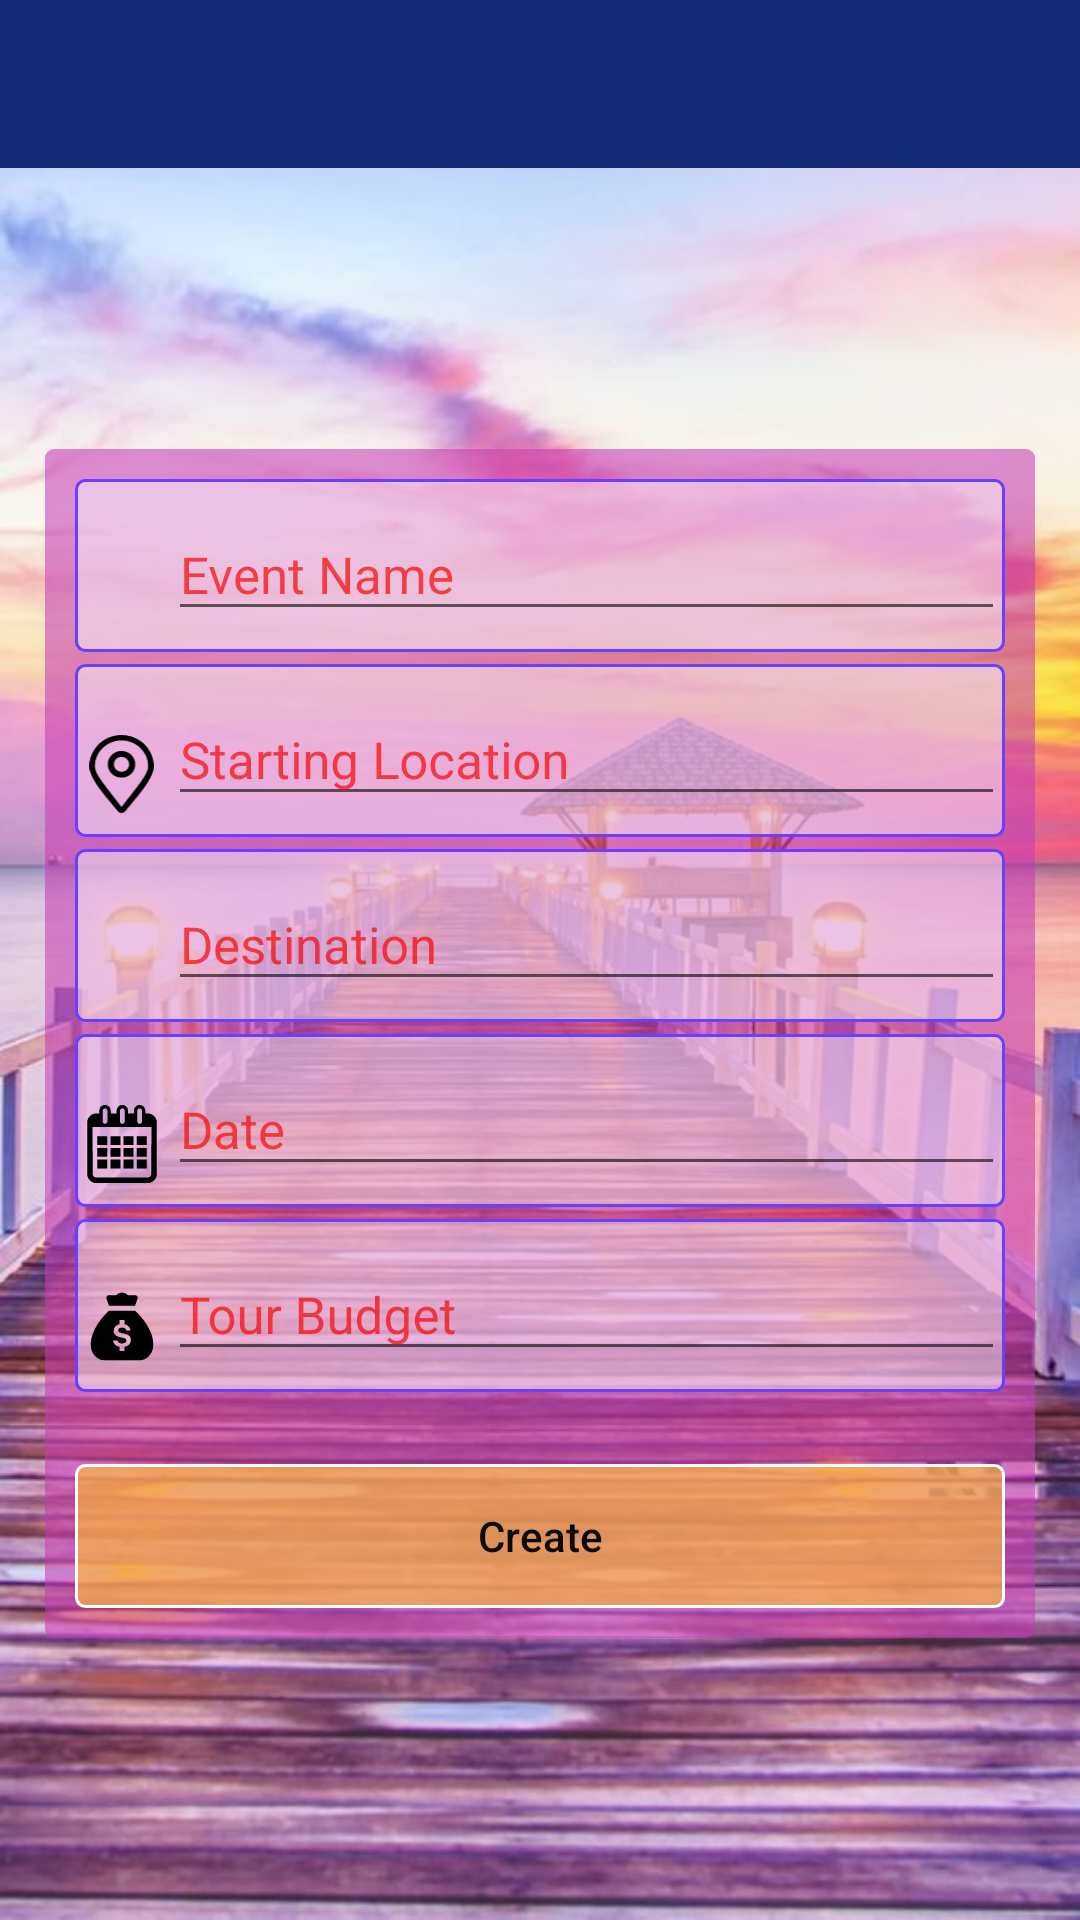

Icons on this 1080w x 1920h Android screen, each with the point to tap as (x=x, y=y):
calender: (x=121, y=1144)
money: (x=121, y=1329)
source: (x=121, y=774)
